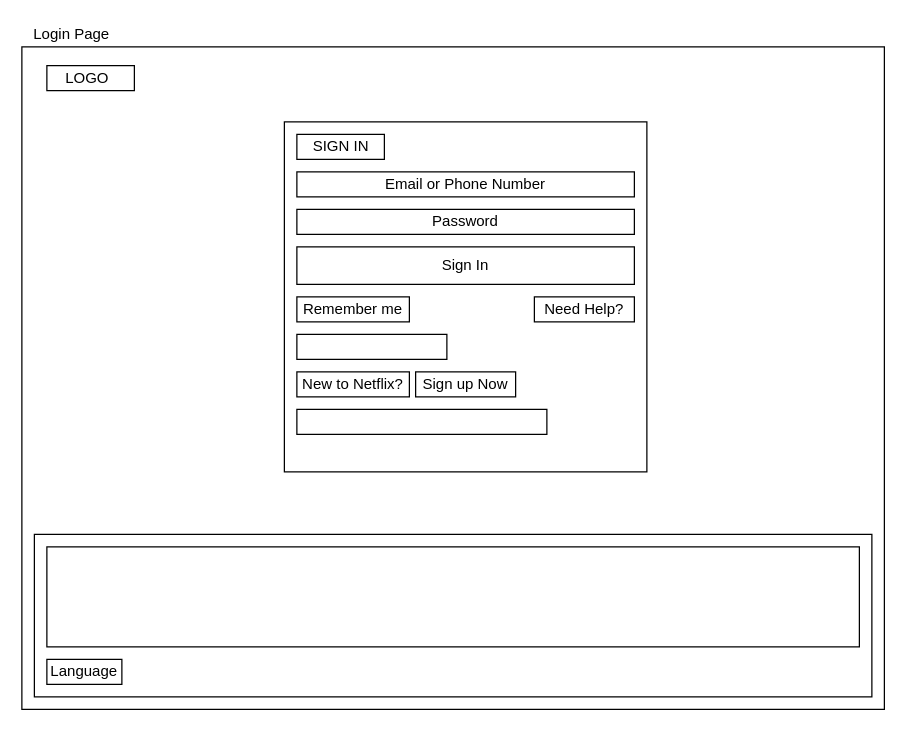
This 906x731 diagram has some shape labels left out. Each missing label, with the centre of its shape:
Login with Facebook: the point at 371,346
recaptcha part: the point at 421,421
